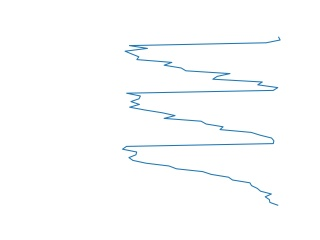distributaryMouthBar: (121, 34, 282, 210)
